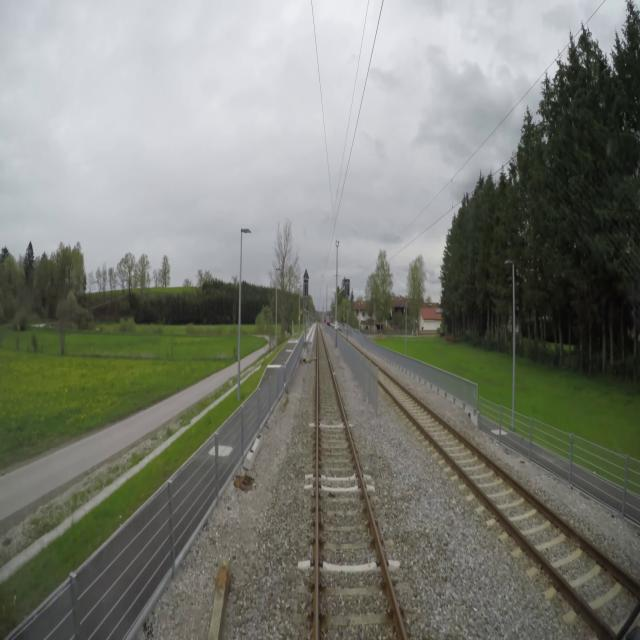rail-track: (346, 341, 578, 574), (319, 329, 402, 639)
